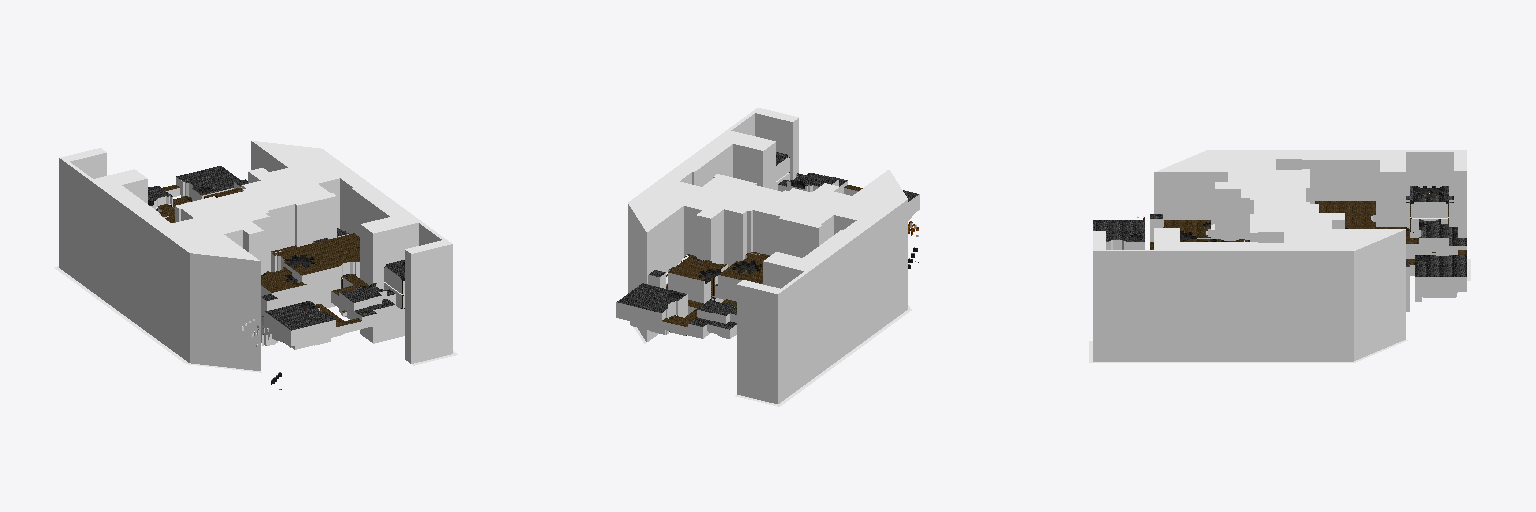
3 views of the same model, side by side, from view 1: azimuth 30°, elevation 25°; view 2: azimuth 150°, elevation 25°; view 3: azimuth 270°, elevation 25° (orthographic).
Visible parts, largest first — view 1: MAPF5; view 2: MAPF5; view 3: MAPF5.
Boxes of the visible parts, box(x1,y1,x2,y2) form: MAPF5: box(54, 141, 457, 389); MAPF5: box(616, 108, 919, 406); MAPF5: box(1089, 150, 1470, 362).
Bounding box in the file's own units: 7296 × 3584 × 11265.
42 materials, 23 textured.